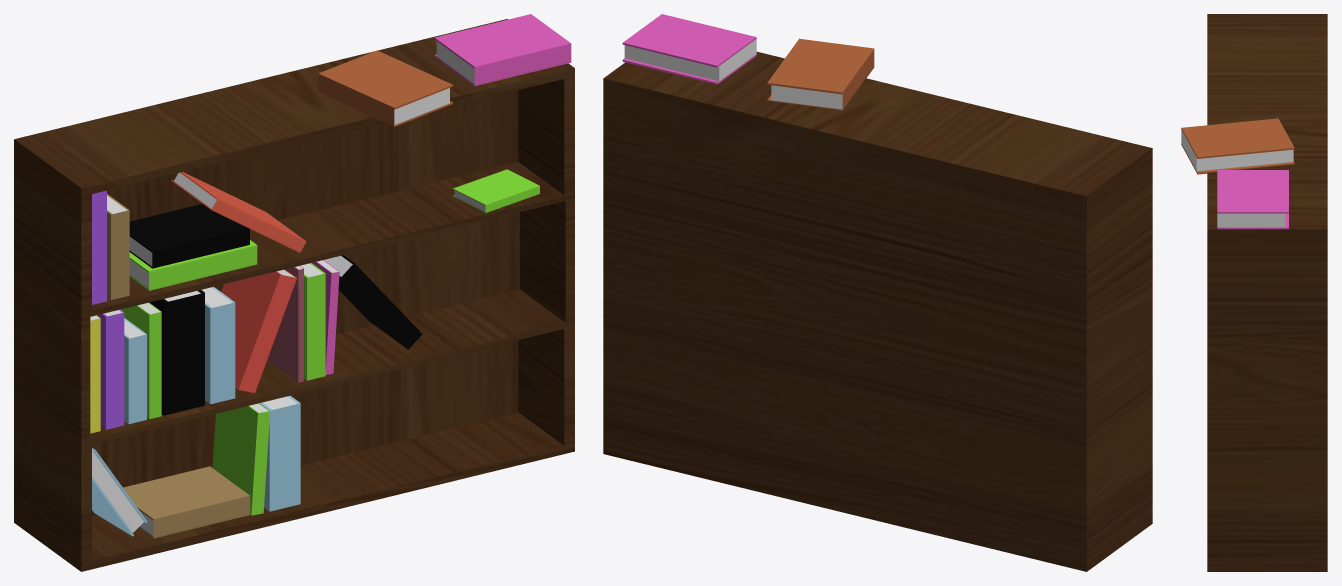
File: Bibliothèque2.fbx
The picture shows the model from 3 angles, left to right: view 1: azimuth 30°, elevation 25°; view 2: azimuth 150°, elevation 25°; view 3: azimuth 270°, elevation 25°; orthographic projection. The views are drawn at different scales.
Parts seen in each view (by area): view 1: Bibliothèque2; view 2: Bibliothèque2; view 3: Bibliothèque2.
Part boxes in pixels (x1,y1,x2,y2): Bibliothèque2: (14, 14, 574, 571); Bibliothèque2: (603, 14, 1152, 571); Bibliothèque2: (1181, 14, 1327, 571).
Size of the model in its own units: 1149 by 894 by 328.
